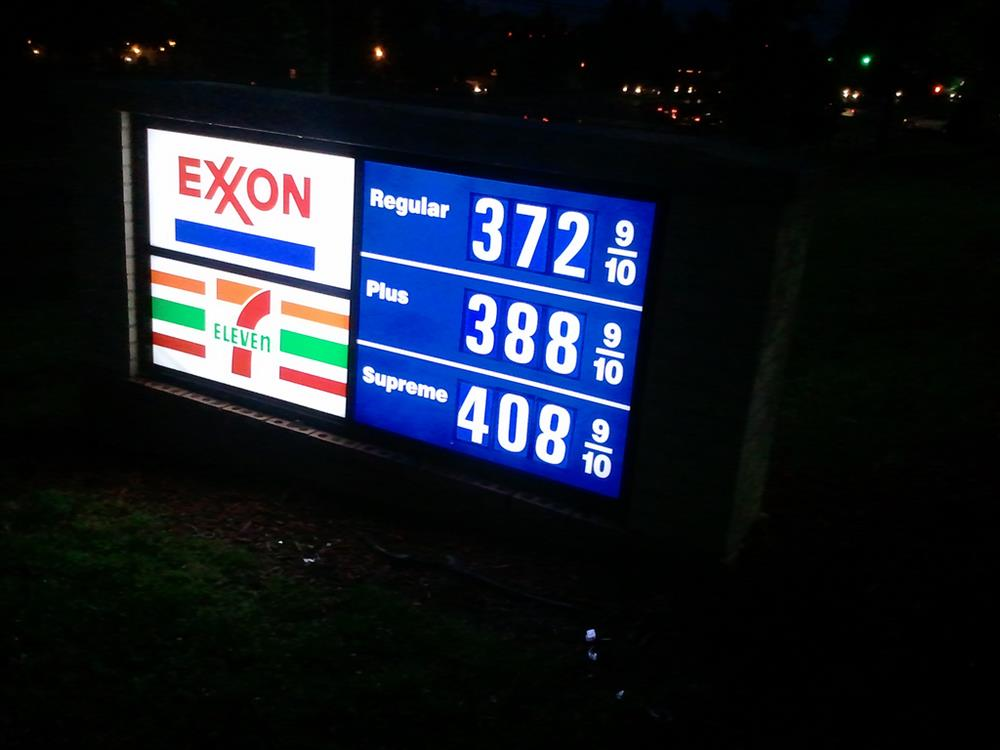seven_eleven: (203, 267, 285, 378)
